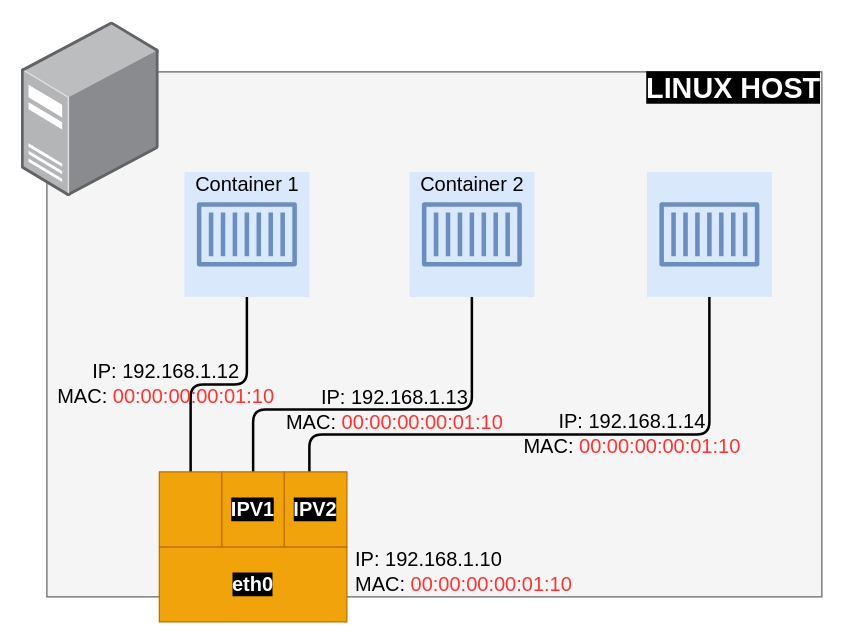
Image size: 849x644. Some labels were removed from this diagram. Each missing label, with the box of its shape:
Container 3: (646, 171, 772, 297)
IPV0: (158, 471, 222, 547)
